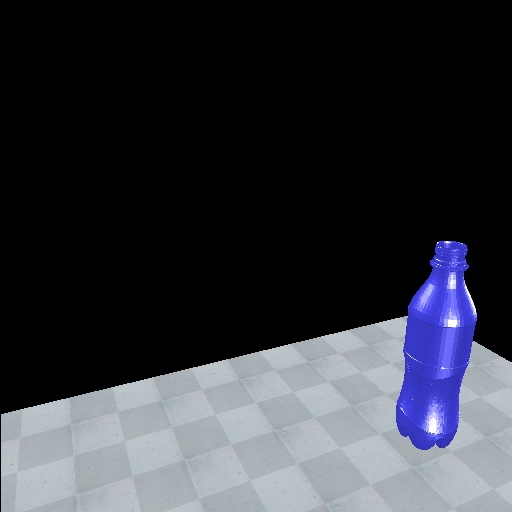bottle: (394, 238, 481, 451)
